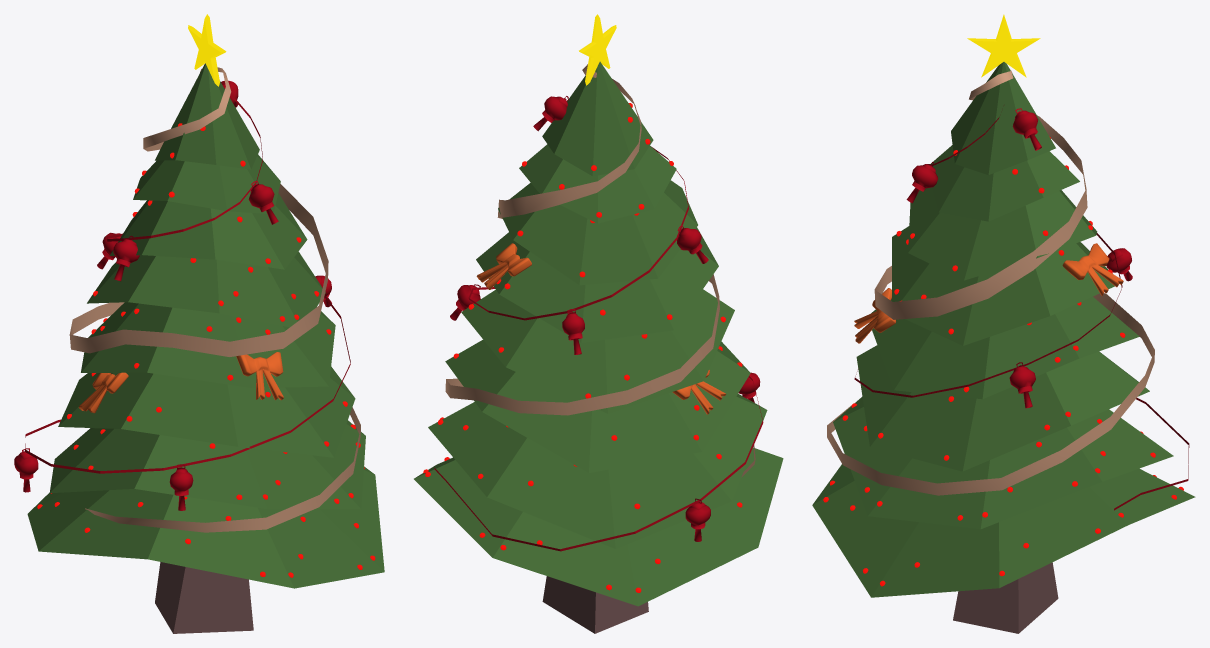
The model's file is tree.glb.
3 views of the same model, side by side, from view 1: azimuth 30°, elevation 25°; view 2: azimuth 150°, elevation 25°; view 3: azimuth 270°, elevation 25° (orthographic).
Visible parts, largest first — view 1: Cone_ChristmasTree_0-col, Veil_Thick_ChristmasTree_0-col, Stem_ChristmasTree_0-col, Veil_Thin_ChristmasTree_0-col, Ribbon.02_ChristmasTree_0-col, Star_ChristmasTree_0-col, Ribbon.03_ChristmasTree_0-col, Lantern.02_ChristmasTree_0-col, Lantern.03_ChristmasTree_0-col, Lantern.07_ChristmasTree_0-col, Lantern.06_ChristmasTree_0-col; view 2: Cone_ChristmasTree_0-col, Veil_Thick_ChristmasTree_0-col, Stem_ChristmasTree_0-col, Veil_Thin_ChristmasTree_0-col, Star_ChristmasTree_0-col, Ribbon.01_ChristmasTree_0-col, Ribbon.03_ChristmasTree_0-col, Lantern.03_ChristmasTree_0-col, Lantern.01_ChristmasTree_0-col, Lantern.06_ChristmasTree_0-col, Lantern.04_ChristmasTree_0-col, Lantern.05_ChristmasTree_0-col; view 3: Cone_ChristmasTree_0-col, Veil_Thick_ChristmasTree_0-col, Stem_ChristmasTree_0-col, Star_ChristmasTree_0-col, Veil_Thin_ChristmasTree_0-col, Ribbon.01_ChristmasTree_0-col, Ribbon.02_ChristmasTree_0-col, Lantern.01_ChristmasTree_0-col, Lantern.05_ChristmasTree_0-col, Lantern.02_ChristmasTree_0-col, Lantern.04_ChristmasTree_0-col.
Boxes of the visible parts, x1,y1,x2,y2 form: Cone_ChristmasTree_0-col: (27, 63, 384, 588); Veil_Thick_ChristmasTree_0-col: (69, 67, 360, 532); Stem_ChristmasTree_0-col: (155, 562, 253, 633); Veil_Thin_ChristmasTree_0-col: (25, 94, 350, 473); Ribbon.02_ChristmasTree_0-col: (236, 352, 283, 400); Star_ChristmasTree_0-col: (188, 14, 226, 86); Ribbon.03_ChristmasTree_0-col: (78, 372, 128, 413); Lantern.02_ChristmasTree_0-col: (248, 181, 278, 224); Lantern.03_ChristmasTree_0-col: (113, 235, 139, 281); Lantern.07_ChristmasTree_0-col: (169, 464, 193, 510); Lantern.06_ChristmasTree_0-col: (14, 448, 38, 492); Cone_ChristmasTree_0-col: (414, 61, 783, 606); Veil_Thick_ChristmasTree_0-col: (445, 64, 755, 477); Stem_ChristmasTree_0-col: (542, 576, 648, 633); Veil_Thin_ChristmasTree_0-col: (434, 146, 763, 551); Star_ChristmasTree_0-col: (579, 14, 616, 85); Ribbon.01_ChristmasTree_0-col: (476, 243, 531, 289); Ribbon.03_ChristmasTree_0-col: (672, 370, 726, 414); Lantern.03_ChristmasTree_0-col: (677, 225, 708, 263); Lantern.01_ChristmasTree_0-col: (533, 96, 568, 131); Lantern.06_ChristmasTree_0-col: (685, 498, 710, 541); Lantern.04_ChristmasTree_0-col: (562, 309, 584, 354); Lantern.05_ChristmasTree_0-col: (450, 284, 480, 320); Cone_ChristmasTree_0-col: (812, 62, 1195, 597); Veil_Thick_ChristmasTree_0-col: (827, 70, 1154, 495); Stem_ChristmasTree_0-col: (953, 562, 1058, 633); Star_ChristmasTree_0-col: (967, 14, 1040, 77); Veil_Thin_ChristmasTree_0-col: (854, 117, 1189, 510); Ribbon.01_ChristmasTree_0-col: (1062, 243, 1123, 295); Ribbon.02_ChristmasTree_0-col: (854, 288, 896, 343); Lantern.01_ChristmasTree_0-col: (1012, 108, 1041, 150); Lantern.05_ChristmasTree_0-col: (1009, 362, 1035, 408); Lantern.02_ChristmasTree_0-col: (906, 162, 938, 203); Lantern.04_ChristmasTree_0-col: (1106, 248, 1132, 281).
Bounding box in the file's own units: 2.68 × 4.72 × 2.71.
Materials: 3 (1 with a texture image).
